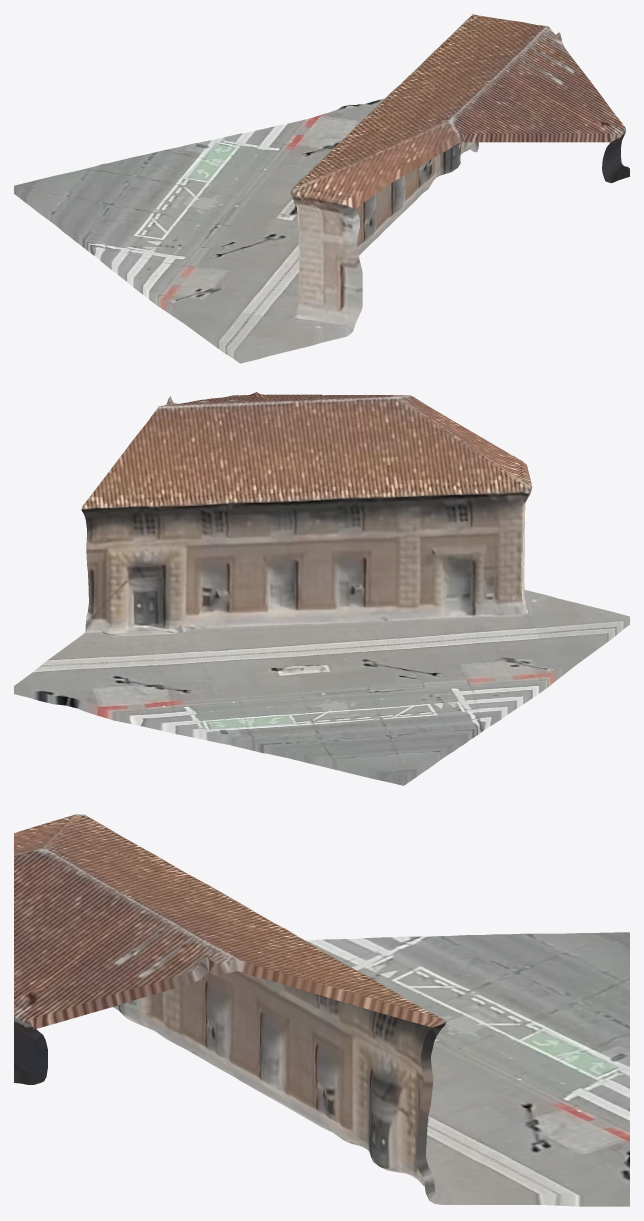
File: z20-167794-405226-h0-yup-uvflip-v3-world.glb
3 views of the same model, one above another, from view 1: azimuth 30°, elevation 25°; view 2: azimuth 150°, elevation 25°; view 3: azimuth 270°, elevation 25° (orthographic). The views are drawn at different scales.
Size of the model in its own units: 30.16 by 13.84 by 30.32.
Materials: 1 (1 with a texture image).
